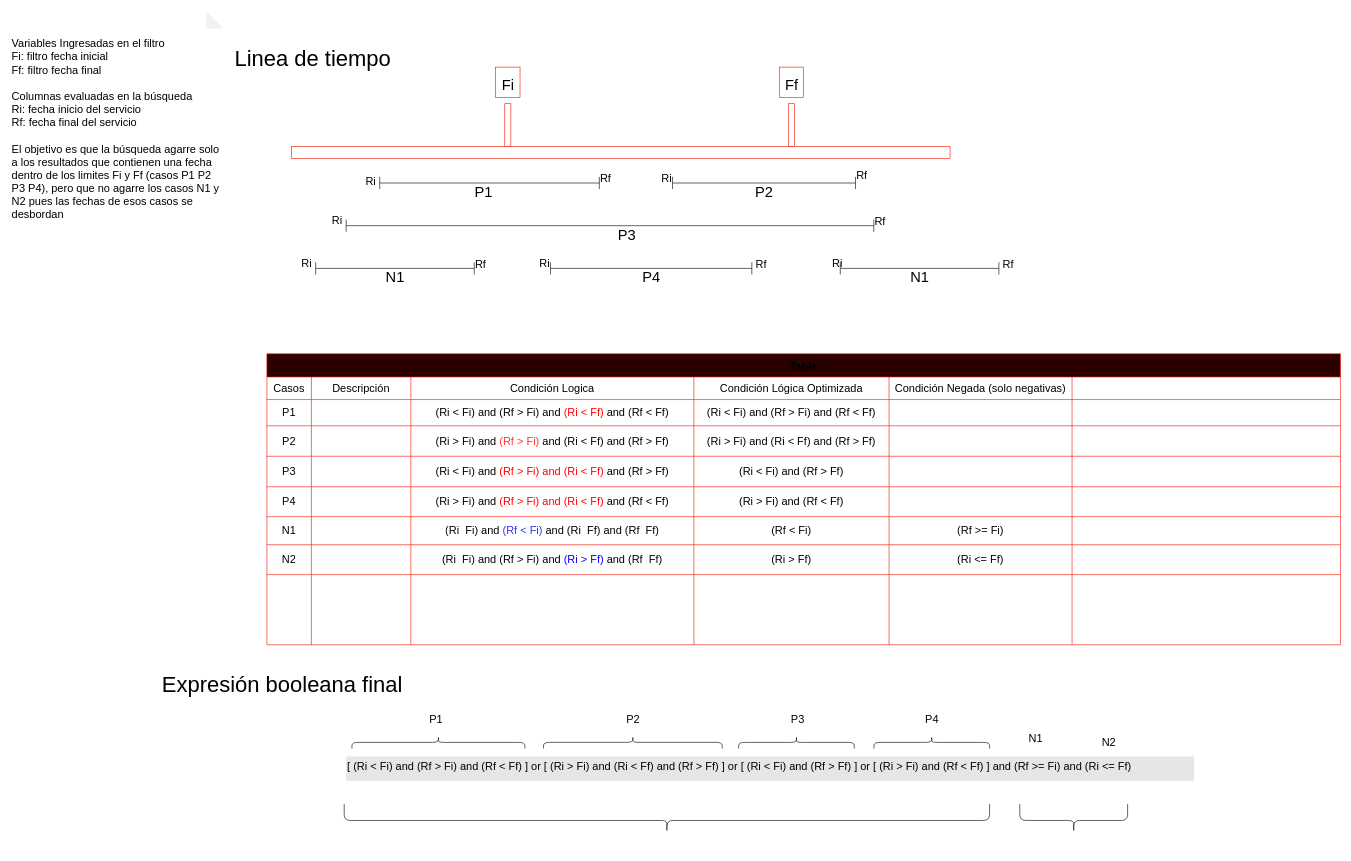
Some shapes in this 1351 by 861 pixel diagram are drawn without their labels. Each missing label, with the centre of its shape:
"Negativos" belongs at (1073,818).
"Positivos" belongs at (667,818).
